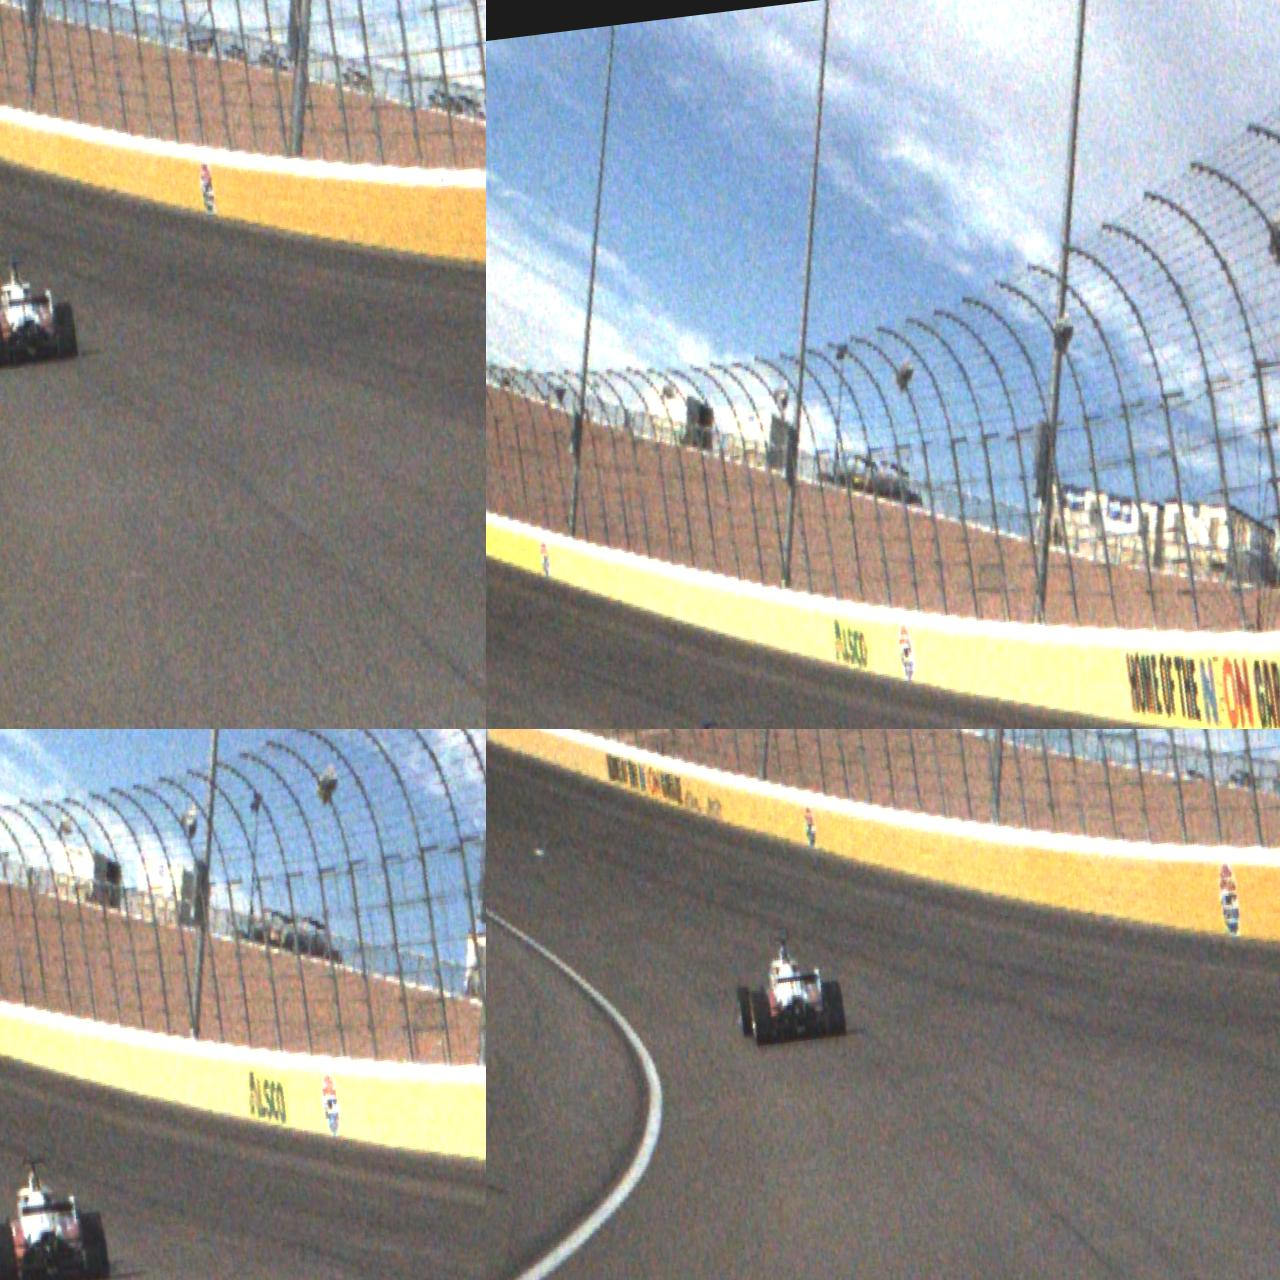AV: (729, 919, 849, 1049), (0, 1148, 113, 1280), (0, 251, 79, 372)
Wheel: (79, 1210, 110, 1280), (749, 989, 776, 1048), (53, 301, 79, 361), (822, 980, 847, 1039), (735, 983, 755, 1039), (0, 1223, 19, 1280), (0, 313, 6, 370)
